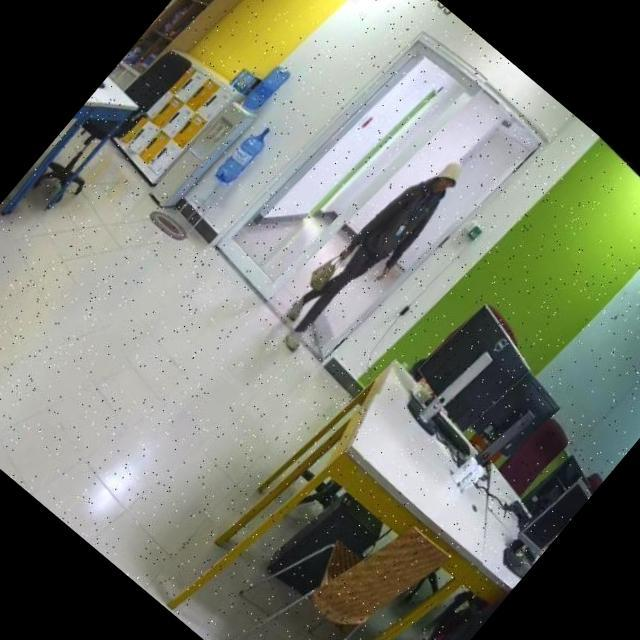person: (261, 134, 475, 370)
